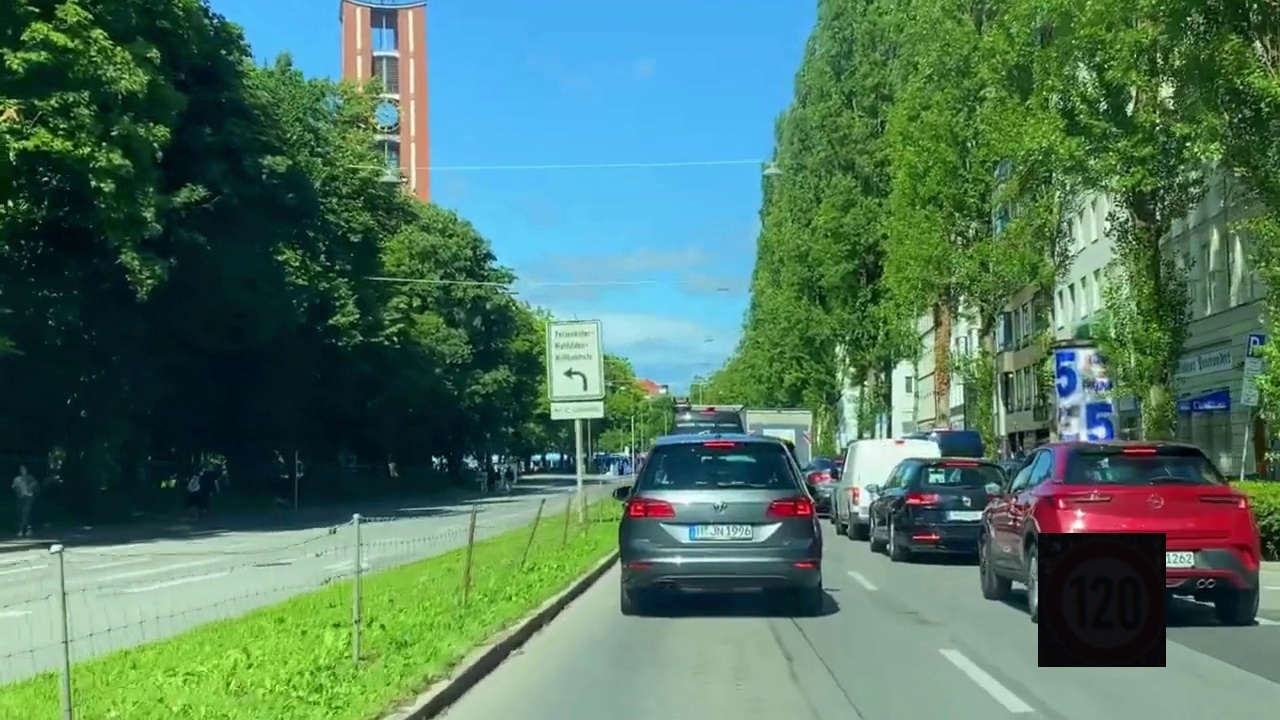Speed 120: (1038, 533, 1166, 667)
